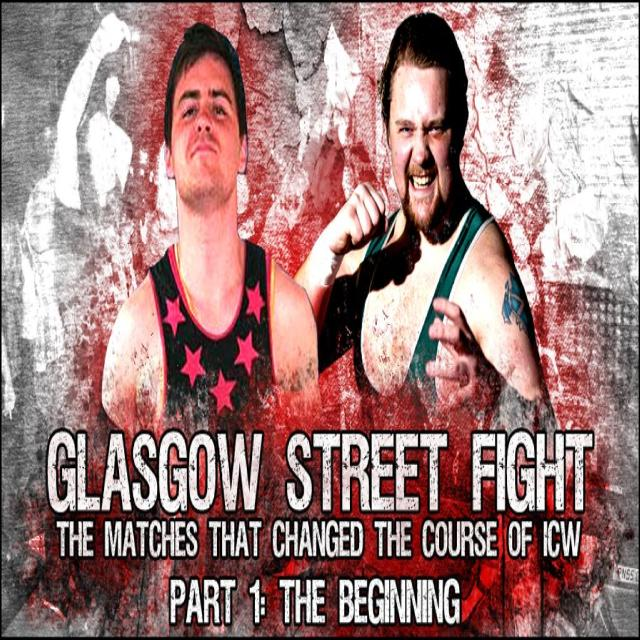Face: (383, 51, 488, 225), (170, 68, 249, 211)
